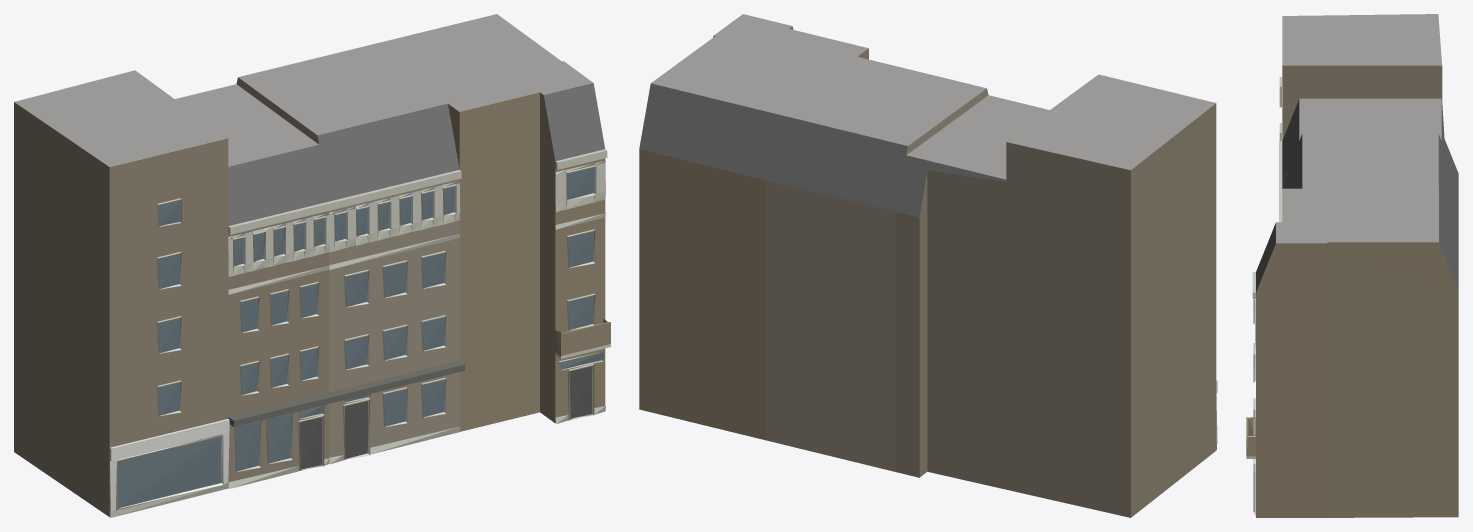
The model's file is chunk-face-evertsen-146-150.lod2.glb.
3 views of the same model, side by side, from view 1: azimuth 30°, elevation 25°; view 2: azimuth 150°, elevation 25°; view 3: azimuth 270°, elevation 25° (orthographic). The views are drawn at different scales.
Visible parts, largest first — view 1: lod2; view 2: lod2; view 3: lod2.
Part boxes in pixels (x1=…): lod2: x1=14, y1=14, x2=610, y2=517; lod2: x1=639, y1=14, x2=1217, y2=517; lod2: x1=1246, y1=14, x2=1458, y2=517.
Bounding box in the file's own units: 24.55 × 16.93 × 10.84.
